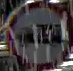Heavy Vehicles: (5, 0, 72, 70)
